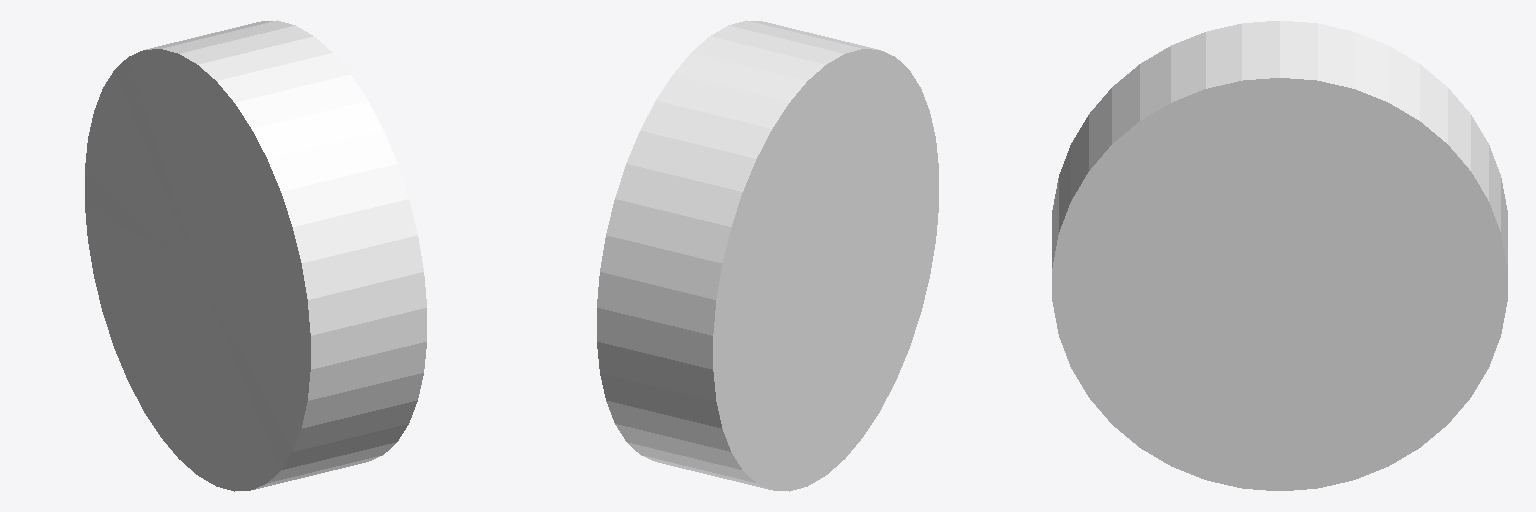
robot.urdf — X_ROB:
<?xml version="1.0" encoding="utf-8"?>
<!-- This URDF was automatically created by SolidWorks to URDF Exporter! Originally created by [author] ([email redacted]) 
     Commit Version: 1.6.0-1-g15f4949  Build Version: 1.6.7594.29634
     For more information, please see http://wiki.ros.org/sw_urdf_exporter -->
<robot
  name="X_ROB">
  <link
    name="base_link">
    <inertial>
      <origin
        xyz="3.3794E-05 -0.00034535 0.043588"
        rpy="0 0 0" />
      <mass
        value="0.18705" />
      <inertia
        ixx="0.00011488"
        ixy="5.0122E-08"
        ixz="-3.1553E-11"
        iyy="0.00011622"
        iyz="-1.1222E-06"
        izz="0.00011232" />
    </inertial>
    <visual>
      <origin
        xyz="0 0 0"
        rpy="0 0 0" />
      <geometry>
        <mesh
          filename="package://X_ROB/meshes/base_link.STL" />
      </geometry>
      <material
        name="">
        <color
          rgba="1 1 1 1" />
      </material>
    </visual>
    <collision>
      <origin
        xyz="0 0 0"
        rpy="0 0 0" />
      <geometry>
        <mesh
          filename="package://X_ROB/meshes/base_link.STL" />
      </geometry>
    </collision>
  </link>
  <link
    name="Link1">
    <inertial>
      <origin
        xyz="0.005962 4.8729E-05 0.13053"
        rpy="0 0 0" />
      <mass
        value="0.18428" />
      <inertia
        ixx="0.00011026"
        ixy="2.7508E-10"
        ixz="-3.1553E-11"
        iyy="0.00011469"
        iyz="-5.0115E-08"
        izz="0.00011246" />
    </inertial>
    <visual>
      <origin
        xyz="0 0 0"
        rpy="0 0 0" />
      <geometry>
        <mesh
          filename="package://X_ROB/meshes/Link1.STL" />
      </geometry>
      <material
        name="">
        <color
          rgba="1 1 1 1" />
      </material>
    </visual>
    <collision>
      <origin
        xyz="0 0 0"
        rpy="0 0 0" />
      <geometry>
        <mesh
          filename="package://X_ROB/meshes/Link1.STL" />
      </geometry>
    </collision>
  </link>
  <joint
    name="joint1"
    type="revolute">
    <origin
      xyz="0 0 0"
      rpy="0 0 0" />
    <parent
      link="base_link" />
    <child
      link="Link1" />
    <axis
      xyz="0 0 1" />
    <limit
      lower="-3.14"
      upper="3.14"
      effort="0"
      velocity="0" />
  </joint>
  <link
    name="Link2">
    <inertial>
      <origin
        xyz="2.3343E-05 0.11813 0.079314"
        rpy="0 0 0" />
      <mass
        value="0.3847" />
      <inertia
        ixx="0.00073026"
        ixy="5.0115E-08"
        ixz="-2.7508E-10"
        iyy="0.00018712"
        iyz="-1.3275E-05"
        izz="0.00075308" />
    </inertial>
    <visual>
      <origin
        xyz="0 0 0"
        rpy="0 0 0" />
      <geometry>
        <mesh
          filename="package://X_ROB/meshes/Link2.STL" />
      </geometry>
      <material
        name="">
        <color
          rgba="1 1 1 1" />
      </material>
    </visual>
    <collision>
      <origin
        xyz="0 0 0"
        rpy="0 0 0" />
      <geometry>
        <mesh
          filename="package://X_ROB/meshes/Link2.STL" />
      </geometry>
    </collision>
  </link>
  <joint
    name="joint2"
    type="revolute">
    <origin
      xyz="0 0 0.1305"
      rpy="1.5708 0 1.5708" />
    <parent
      link="Link1" />
    <child
      link="Link2" />
    <axis
      xyz="0 0 1" />
    <limit
      lower="-3.14"
      upper="3.14"
      effort="0"
      velocity="0" />
  </joint>
  <link
    name="Link3">
    <inertial>
      <origin
        xyz="0.11813 -2.3343E-05 -0.002186"
        rpy="0 0 0" />
      <mass
        value="0.3847" />
      <inertia
        ixx="0.00018712"
        ixy="-5.0115E-08"
        ixz="-1.3275E-05"
        iyy="0.00073026"
        iyz="2.7508E-10"
        izz="0.00075308" />
    </inertial>
    <visual>
      <origin
        xyz="0 0 0"
        rpy="0 0 0" />
      <geometry>
        <mesh
          filename="package://X_ROB/meshes/Link3.STL" />
      </geometry>
      <material
        name="">
        <color
          rgba="1 1 1 1" />
      </material>
    </visual>
    <collision>
      <origin
        xyz="0 0 0"
        rpy="0 0 0" />
      <geometry>
        <mesh
          filename="package://X_ROB/meshes/Link3.STL" />
      </geometry>
    </collision>
  </link>
  <joint
    name="joint3"
    type="revolute">
    <origin
      xyz="0 0.189 0"
      rpy="3.1416 0 1.5708" />
    <parent
      link="Link2" />
    <child
      link="Link3" />
    <axis
      xyz="0 0 1" />
    <limit
      lower="-3.14"
      upper="3.14"
      effort="0"
      velocity="0" />
  </joint>
  <link
    name="Link4">
    <inertial>
      <origin
        xyz="0.005962 4.8729E-05 0.092526"
        rpy="0 0 0" />
      <mass
        value="0.18428" />
      <inertia
        ixx="0.00011026"
        ixy="2.7508E-10"
        ixz="-3.1553E-11"
        iyy="0.00011469"
        iyz="-5.0115E-08"
        izz="0.00011246" />
    </inertial>
    <visual>
      <origin
        xyz="0 0 0"
        rpy="0 0 0" />
      <geometry>
        <mesh
          filename="package://X_ROB/meshes/Link4.STL" />
      </geometry>
      <material
        name="">
        <color
          rgba="1 1 1 1" />
      </material>
    </visual>
    <collision>
      <origin
        xyz="0 0 0"
        rpy="0 0 0" />
      <geometry>
        <mesh
          filename="package://X_ROB/meshes/Link4.STL" />
      </geometry>
    </collision>
  </link>
  <joint
    name="joint4"
    type="revolute">
    <origin
      xyz="0.189 0 0"
      rpy="3.1416 0 0" />
    <parent
      link="Link3" />
    <child
      link="Link4" />
    <axis
      xyz="0 0 1" />
    <limit
      lower="-3.14"
      upper="3.14"
      effort="0"
      velocity="0" />
  </joint>
  <link
    name="Link5">
    <inertial>
      <origin
        xyz="-4.8729E-05 0.005962 0.092526"
        rpy="0 0 0" />
      <mass
        value="0.18428" />
      <inertia
        ixx="0.00011469"
        ixy="-2.7508E-10"
        ixz="5.0115E-08"
        iyy="0.00011026"
        iyz="-3.1553E-11"
        izz="0.00011246" />
    </inertial>
    <visual>
      <origin
        xyz="0 0 0"
        rpy="0 0 0" />
      <geometry>
        <mesh
          filename="package://X_ROB/meshes/Link5.STL" />
      </geometry>
      <material
        name="">
        <color
          rgba="1 1 1 1" />
      </material>
    </visual>
    <collision>
      <origin
        xyz="0 0 0"
        rpy="0 0 0" />
      <geometry>
        <mesh
          filename="package://X_ROB/meshes/Link5.STL" />
      </geometry>
    </collision>
  </link>
  <joint
    name="joint5"
    type="revolute">
    <origin
      xyz="0 0 0.0925"
      rpy="1.5708 0 1.5708" />
    <parent
      link="Link4" />
    <child
      link="Link5" />
    <axis
      xyz="0 0 1" />
    <limit
      lower="-3.14"
      upper="3.14"
      effort="0"
      velocity="0" />
  </joint>
  <link
    name="Link6">
    <inertial>
      <origin
        xyz="3.1366E-14 -7.7716E-16 0.06178"
        rpy="0 0 0" />
      <mass
        value="0.00040263" />
      <inertia
        ixx="4.0489E-09"
        ixy="-1.1561E-39"
        ixz="-2.6629E-25"
        iyy="4.0489E-09"
        iyz="-4.691E-24"
        izz="7.2473E-09" />
    </inertial>
    <visual>
      <origin
        xyz="0 0 0"
        rpy="0 0 0" />
      <geometry>
        <mesh
          filename="package://X_ROB/meshes/Link6.STL" />
      </geometry>
      <material
        name="">
        <color
          rgba="1 1 1 1" />
      </material>
    </visual>
    <collision>
      <origin
        xyz="0 0 0"
        rpy="0 0 0" />
      <geometry>
        <mesh
          filename="package://X_ROB/meshes/Link6.STL" />
      </geometry>
    </collision>
  </link>
  <joint
    name="joint6"
    type="revolute">
    <origin
      xyz="0 0 0.0925"
      rpy="1.5708 0 3.1416" />
    <parent
      link="Link5" />
    <child
      link="Link6" />
    <axis
      xyz="0 0 1" />
    <limit
      lower="-3.14"
      upper="3.14"
      effort="0"
      velocity="0" />
  </joint>
</robot>

--- Render facts (derived) ---
3 views of the same robot in one strip: view 1: azimuth 30°, elevation 25°; view 2: azimuth 150°, elevation 25°; view 3: azimuth 270°, elevation 25° (orthographic).
Model X_ROB with 7 links and 6 joints (6 revolute), rooted at base_link, posed every joint at zero.
Links seen in each view (by area): view 1: Link6; view 2: Link6; view 3: Link6.
Boxes of the visible links, <box> form: Link6: <box>85,20,426,491</box>; Link6: <box>597,20,938,491</box>; Link6: <box>1052,21,1507,490</box>.
Size in the robot's own frame: 0.0036 by 0.012 by 0.012 metres.
1 mesh visuals loaded from 7 distinct referenced files (1 binary STL); not drawn: 6 (reference not matched to a file when rendering).